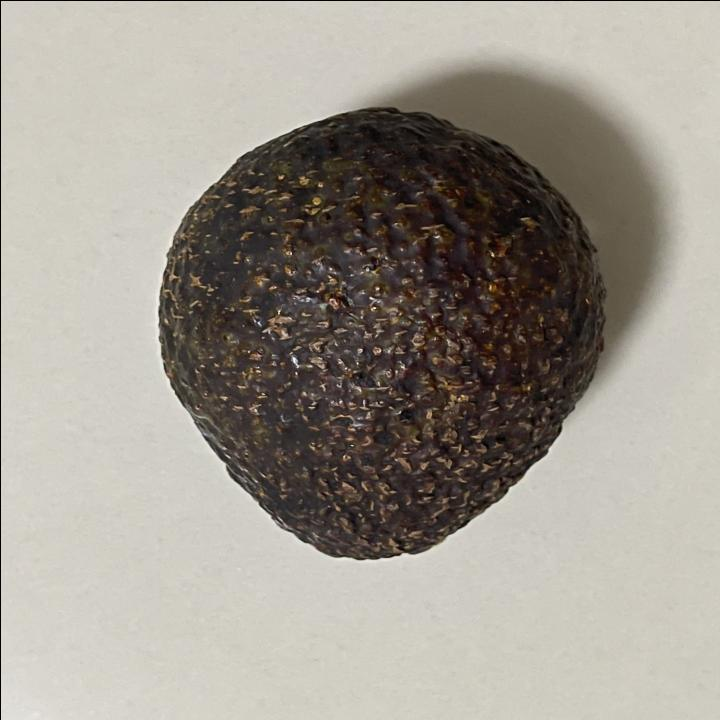Level2: (148, 101, 612, 563)
